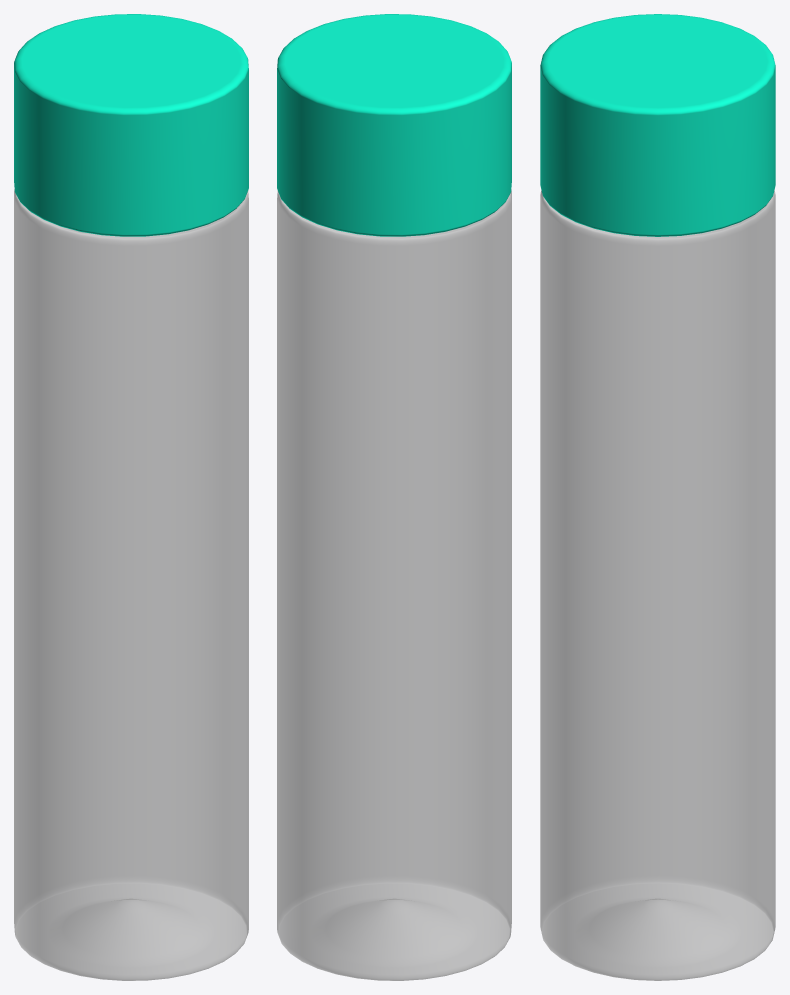
File: bottle.glb
The picture shows the model from 3 angles, left to right: view 1: azimuth 30°, elevation 25°; view 2: azimuth 150°, elevation 25°; view 3: azimuth 270°, elevation 25°; orthographic projection.
Parts seen in each view (by area): view 1: base, cap; view 2: base, cap; view 3: base, cap.
Part boxes in pixels (bbox=[...]): base: bbox=[14, 189, 248, 980]; cap: bbox=[14, 14, 248, 236]; base: bbox=[277, 189, 511, 980]; cap: bbox=[277, 14, 511, 236]; base: bbox=[540, 190, 775, 980]; cap: bbox=[540, 14, 775, 236].
Bounding box in the file's own units: 2 × 8.17 × 2.
